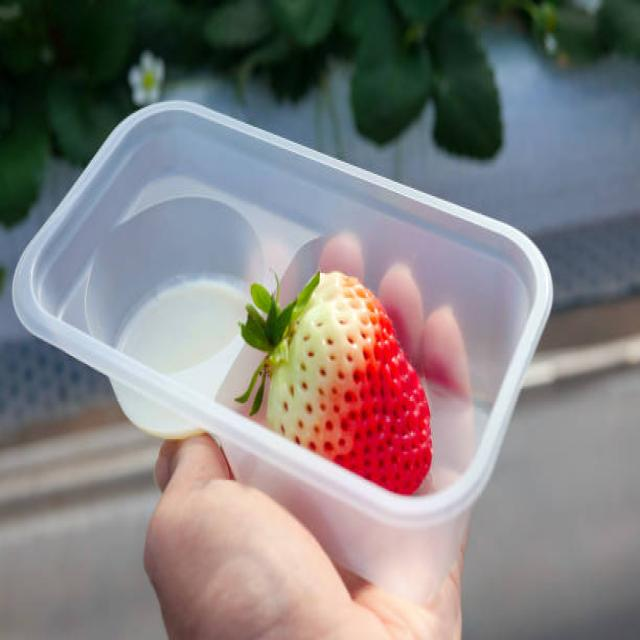Healthy Fruit: (265, 271, 432, 493)
